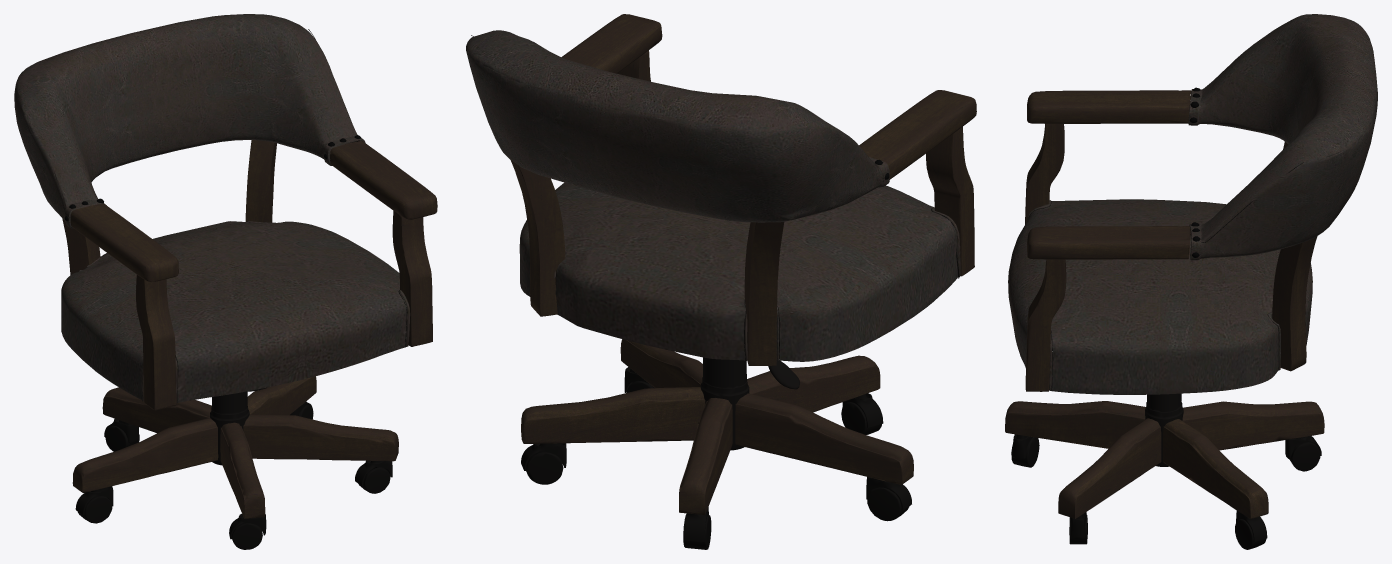
The model's file is RDBL5487.obj.
3 views of the same model, side by side, from view 1: azimuth 30°, elevation 25°; view 2: azimuth 150°, elevation 25°; view 3: azimuth 270°, elevation 25° (orthographic). The views are drawn at different scales.
Visible parts, largest first — view 1: not_clear_obj_8_v6, not_clear_obj_7_v6, not_clear_obj_0_v6, not_clear_obj_6_v6, not_clear_obj_1_v6; view 2: not_clear_obj_8_v6, not_clear_obj_0_v6, not_clear_obj_7_v6, not_clear_obj_6_v6, not_clear_obj_1_v6; view 3: not_clear_obj_0_v6, not_clear_obj_8_v6, not_clear_obj_7_v6, not_clear_obj_6_v6, not_clear_obj_1_v6.
Part boxes in pixels (<box>): not_clear_obj_8_v6: <box>61,221,410,402</box>; not_clear_obj_7_v6: <box>14,14,405,298</box>; not_clear_obj_0_v6: <box>62,140,437,518</box>; not_clear_obj_6_v6: <box>75,401,392,549</box>; not_clear_obj_1_v6: <box>210,387,266,465</box>; not_clear_obj_8_v6: <box>519,182,960,361</box>; not_clear_obj_0_v6: <box>510,14,976,514</box>; not_clear_obj_7_v6: <box>466,30,948,308</box>; not_clear_obj_6_v6: <box>521,367,911,549</box>; not_clear_obj_1_v6: <box>700,357,799,450</box>; not_clear_obj_0_v6: <box>1005,90,1324,518</box>; not_clear_obj_8_v6: <box>1008,199,1312,394</box>; not_clear_obj_7_v6: <box>1035,14,1377,336</box>; not_clear_obj_6_v6: <box>1011,434,1321,549</box>; not_clear_obj_1_v6: <box>1145,393,1183,466</box>.
Size of what is drawn, in the model's own units: 63.46 by 78.79 by 63.51.
